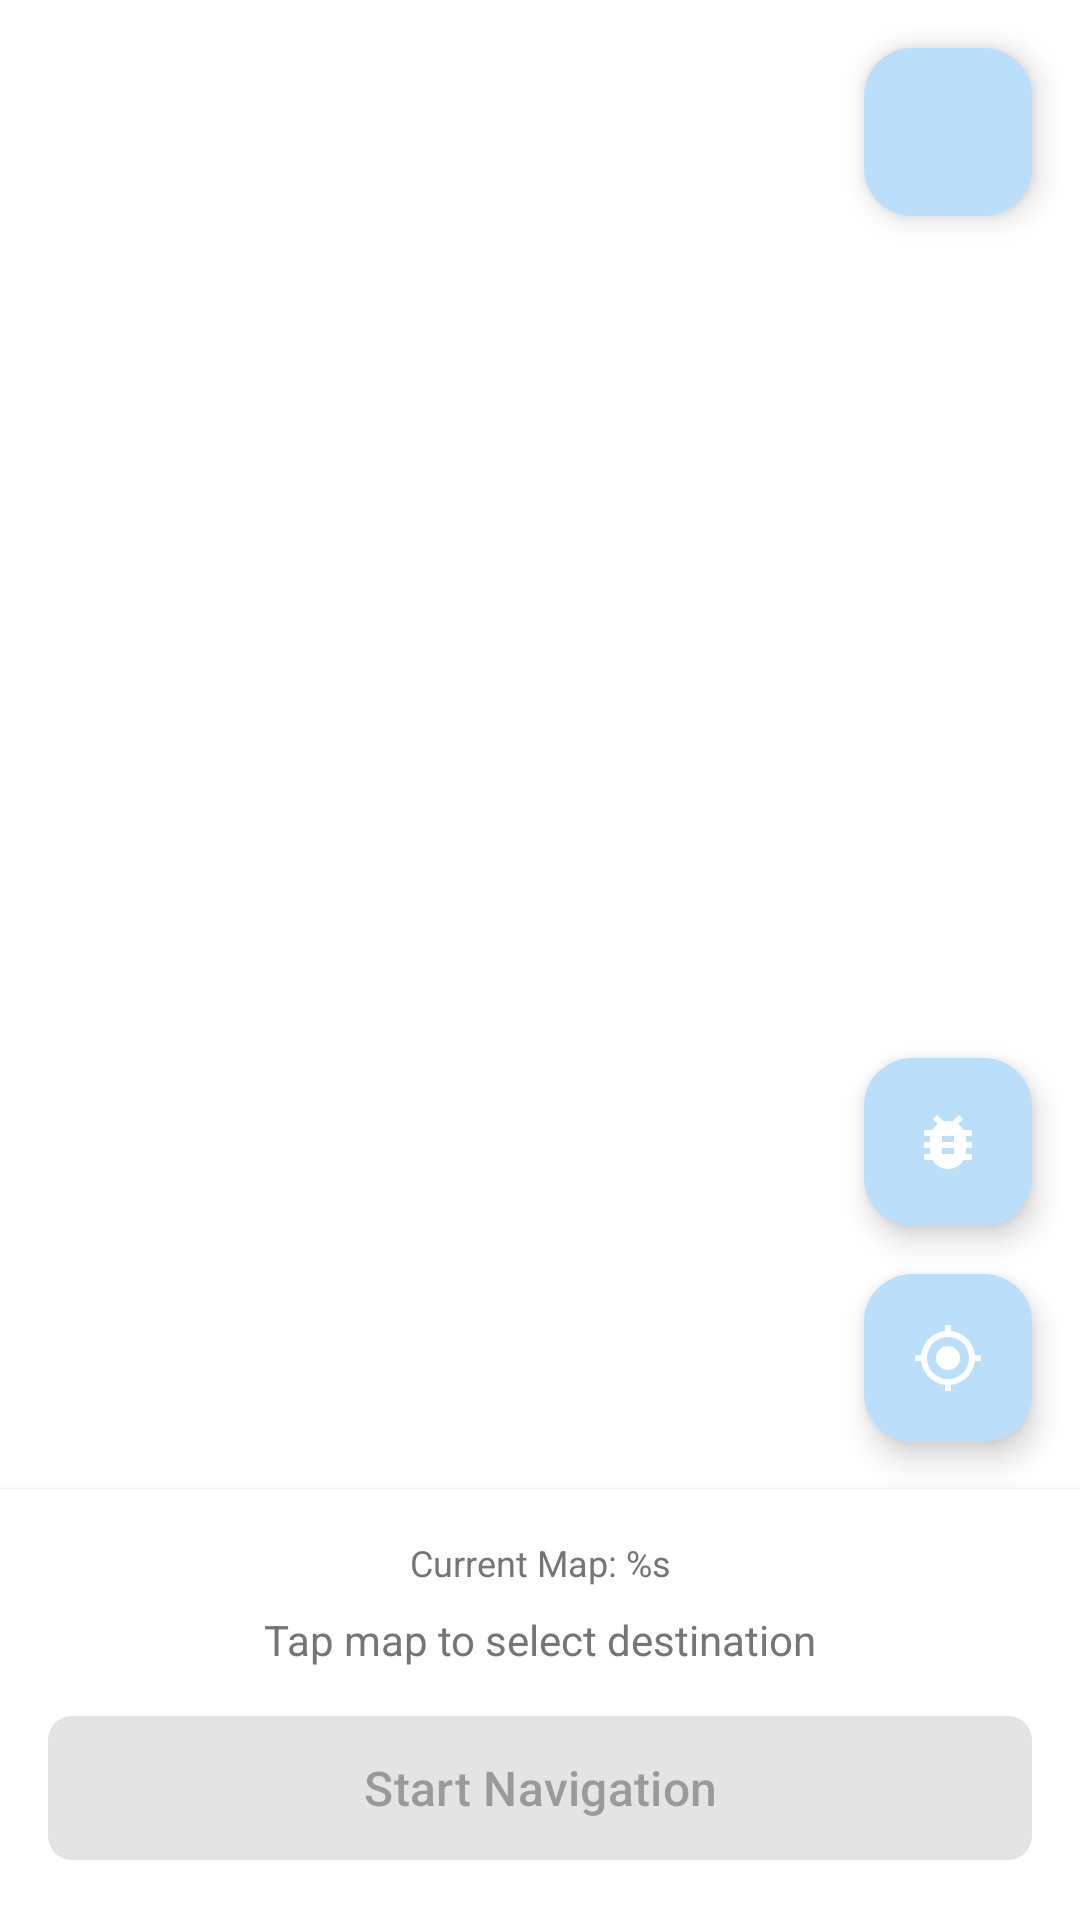

Screen size 1080px x 1920px. Icon name, then its box in pixels as [x1, y1, x2, y2]:
Current Location: [864, 1274, 1032, 1442]
显示/隐藏日志: [864, 1058, 1032, 1226]
